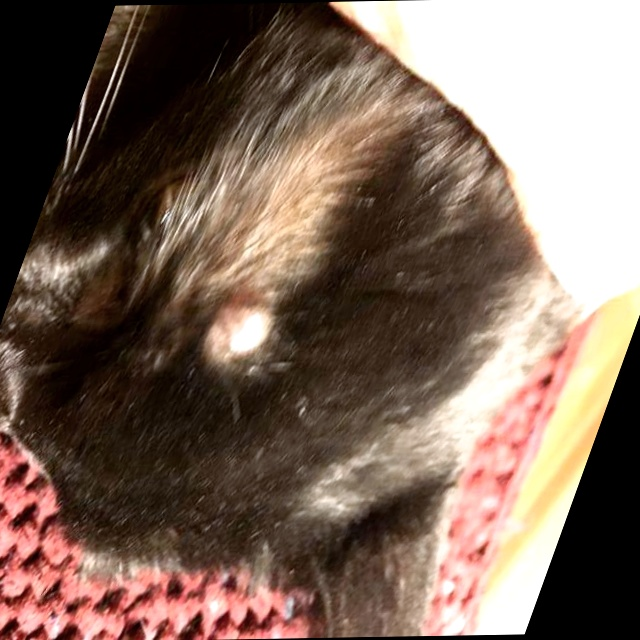lump_and_bump: (189, 303, 293, 367)
